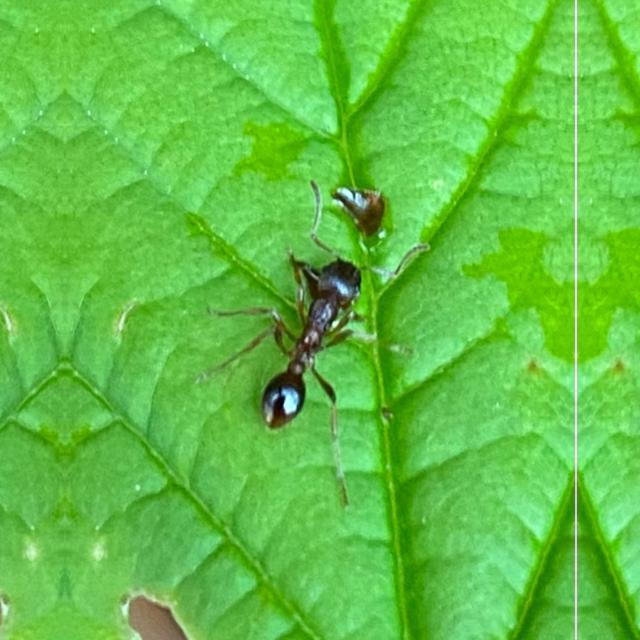Myrmica: (227, 218, 387, 444)
